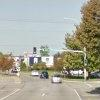Car: (38, 66, 63, 85)
